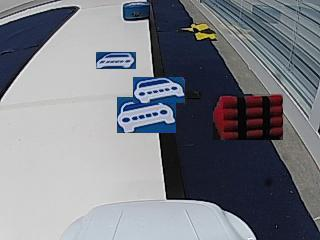prop: (123, 1, 149, 21)
